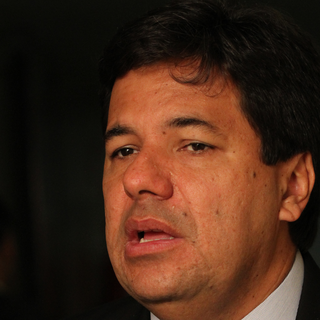eye: (171, 136, 223, 157), (104, 142, 142, 163)
